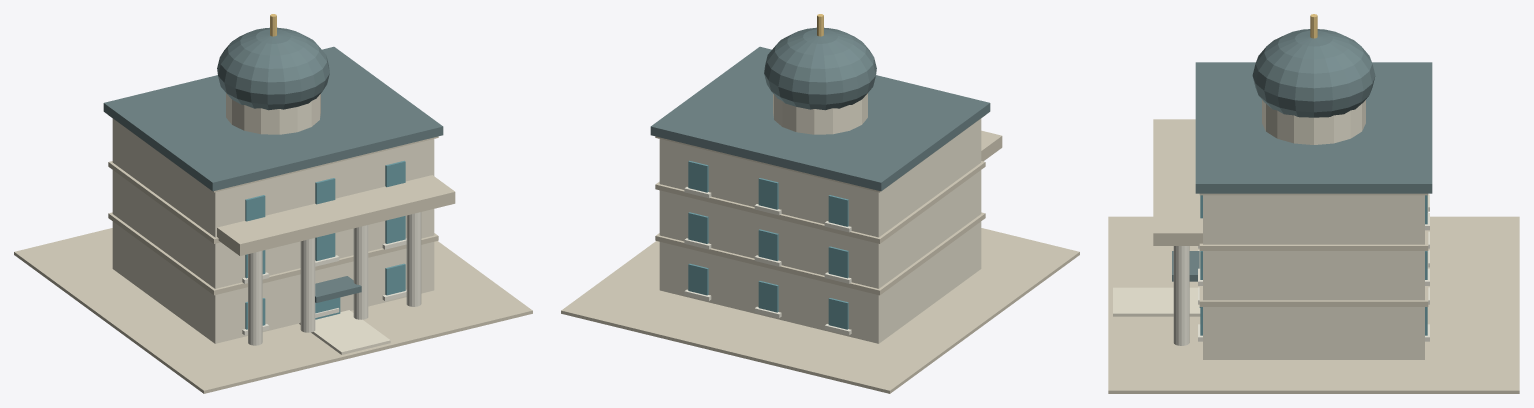
The model's file is civic_landmark.glb.
3 views of the same model, side by side, from view 1: azimuth 30°, elevation 25°; view 2: azimuth 150°, elevation 25°; view 3: azimuth 270°, elevation 25° (orthographic). The views are drawn at different scales.
Visible parts, largest first — view 1: Masonry shell.008, Paved civic lot.009, Copper roof.008, Portico, Sphere, Central drum, Front path.009, Limestone course.015, Civic column.003, Civic column.001, Civic column.002, Civic column (+9 smaller); view 2: Masonry shell.008, Paved civic lot.009, Copper roof.008, Sphere, Central drum, Limestone course.015, Limestone course.016, Recessed glazing.093, Recessed glazing.101, Recessed glazing.103, Recessed glazing.095, Recessed glazing.097 (+6 smaller); view 3: Paved civic lot.009, Masonry shell.008, Copper roof.008, Sphere, Portico, Central drum, Front path.009, Limestone course.015, Limestone course.016, Civic column.003, Limestone course.017, Entrance canopy.008.
Part boxes in pixels (bbox=[...]): Masonry shell.008: bbox=[112, 119, 434, 343]; Paved civic lot.009: bbox=[14, 228, 532, 393]; Copper roof.008: bbox=[103, 46, 443, 191]; Portico: bbox=[217, 175, 455, 255]; Sphere: bbox=[217, 27, 329, 110]; Central drum: bbox=[226, 93, 320, 134]; Front path.009: bbox=[299, 310, 390, 354]; Limestone course.015: bbox=[108, 212, 438, 295]; Civic column.003: bbox=[406, 212, 421, 306]; Civic column.001: bbox=[300, 238, 315, 332]; Civic column.002: bbox=[353, 225, 368, 319]; Civic column: bbox=[248, 250, 262, 345]; Masonry shell.008: bbox=[659, 119, 981, 343]; Paved civic lot.009: bbox=[561, 228, 1079, 393]; Copper roof.008: bbox=[650, 46, 990, 191]; Sphere: bbox=[764, 27, 876, 110]; Central drum: bbox=[773, 93, 867, 134]; Limestone course.015: bbox=[655, 212, 985, 295]; Limestone course.016: bbox=[655, 161, 985, 243]; Recessed glazing.093: bbox=[758, 281, 778, 312]; Recessed glazing.101: bbox=[688, 212, 708, 243]; Recessed glazing.103: bbox=[828, 195, 848, 226]; Recessed glazing.095: bbox=[688, 263, 708, 295]; Recessed glazing.097: bbox=[828, 246, 848, 278]; Paved civic lot.009: bbox=[1108, 216, 1519, 393]; Masonry shell.008: bbox=[1203, 195, 1424, 359]; Copper roof.008: bbox=[1195, 62, 1432, 193]; Sphere: bbox=[1252, 29, 1375, 117]; Portico: bbox=[1153, 119, 1202, 245]; Central drum: bbox=[1262, 100, 1365, 144]; Front path.009: bbox=[1113, 287, 1200, 316]; Limestone course.015: bbox=[1199, 251, 1428, 306]; Limestone course.016: bbox=[1199, 195, 1428, 250]; Civic column.003: bbox=[1173, 246, 1189, 345]; Limestone course.017: bbox=[1199, 193, 1428, 195]; Entrance canopy.008: bbox=[1172, 251, 1199, 281].
Bounding box in the file's own units: 8.7 × 6.8 × 8.7.
